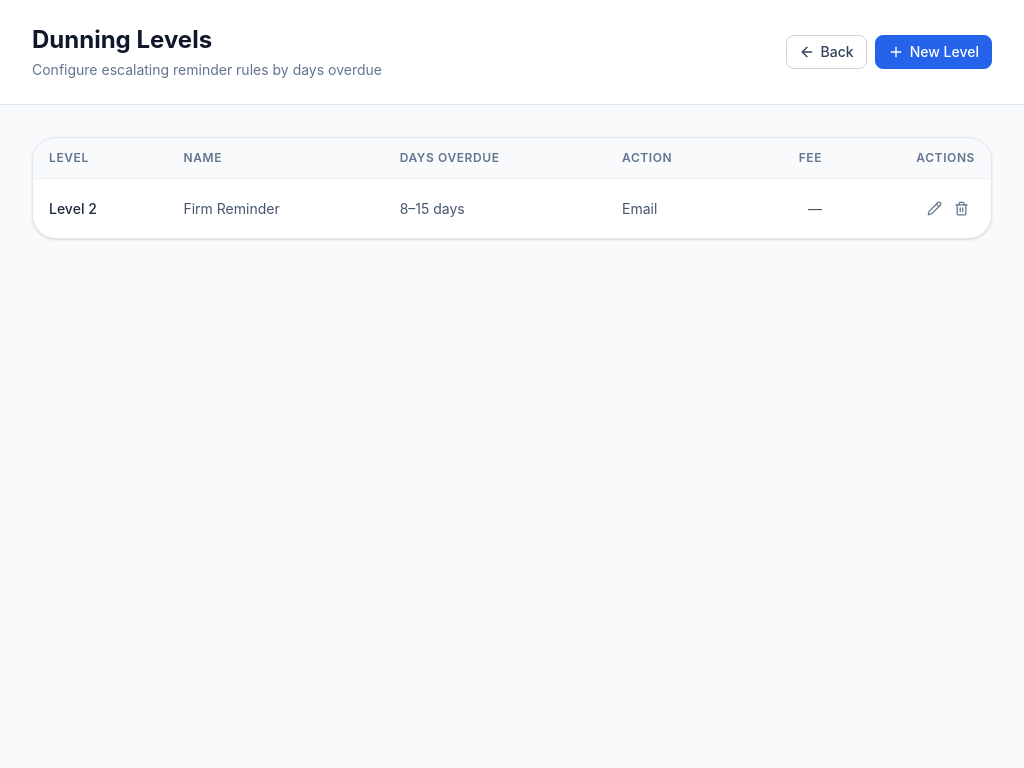
Test case: N. Dunning levels › delete asks for confirmation; cancel deletes nothing
Click the button named "Delete level 2" at (962, 208), box [948, 195, 975, 222]
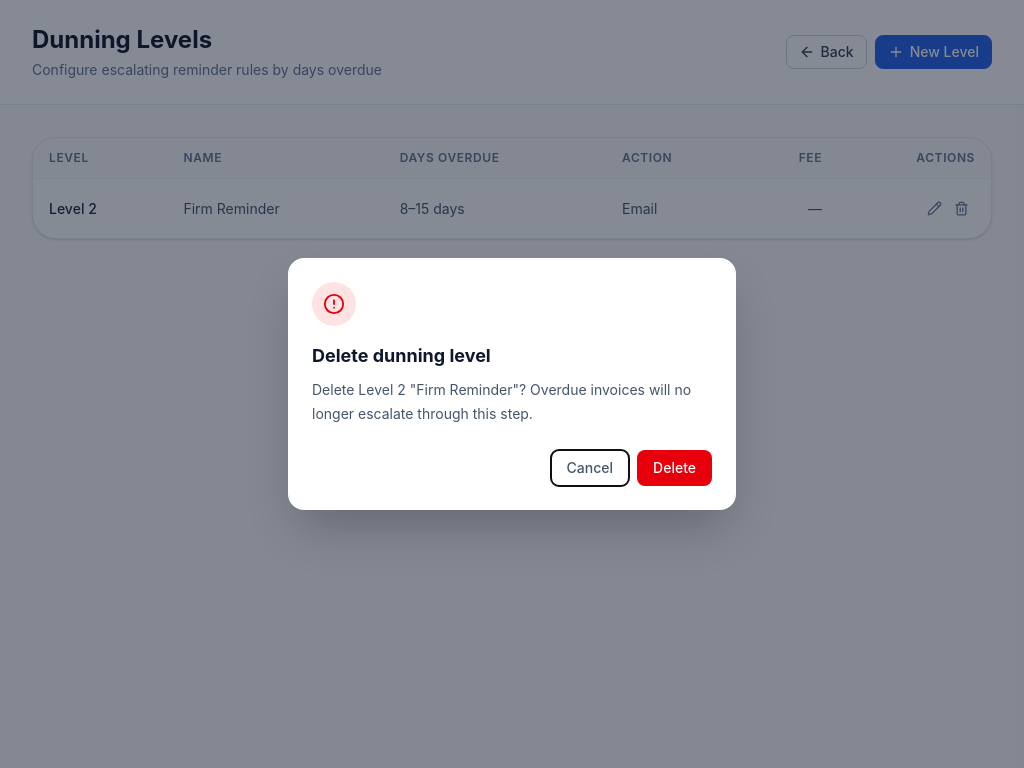
Expected: the dialog "Delete dunning level" shows "Delete Level 2 \"Firm Reminder\"?", [312, 381, 691, 422]
Click the button "Cancel" at (590, 468), box [551, 450, 629, 486]
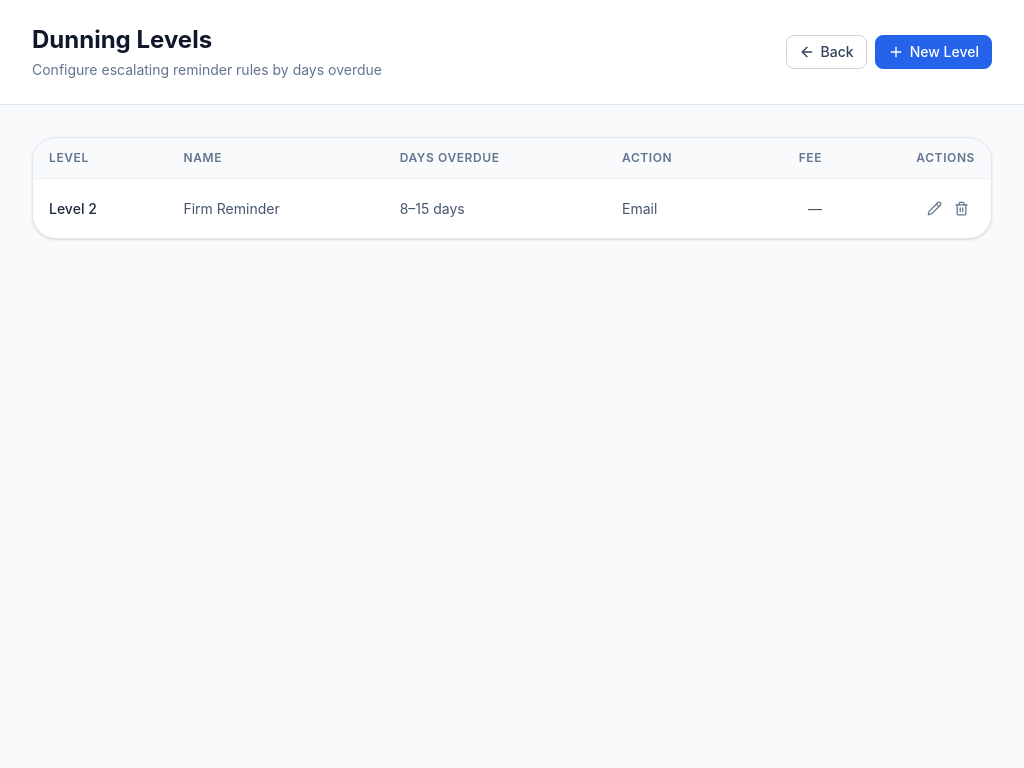
Expected: the dialog is gone
